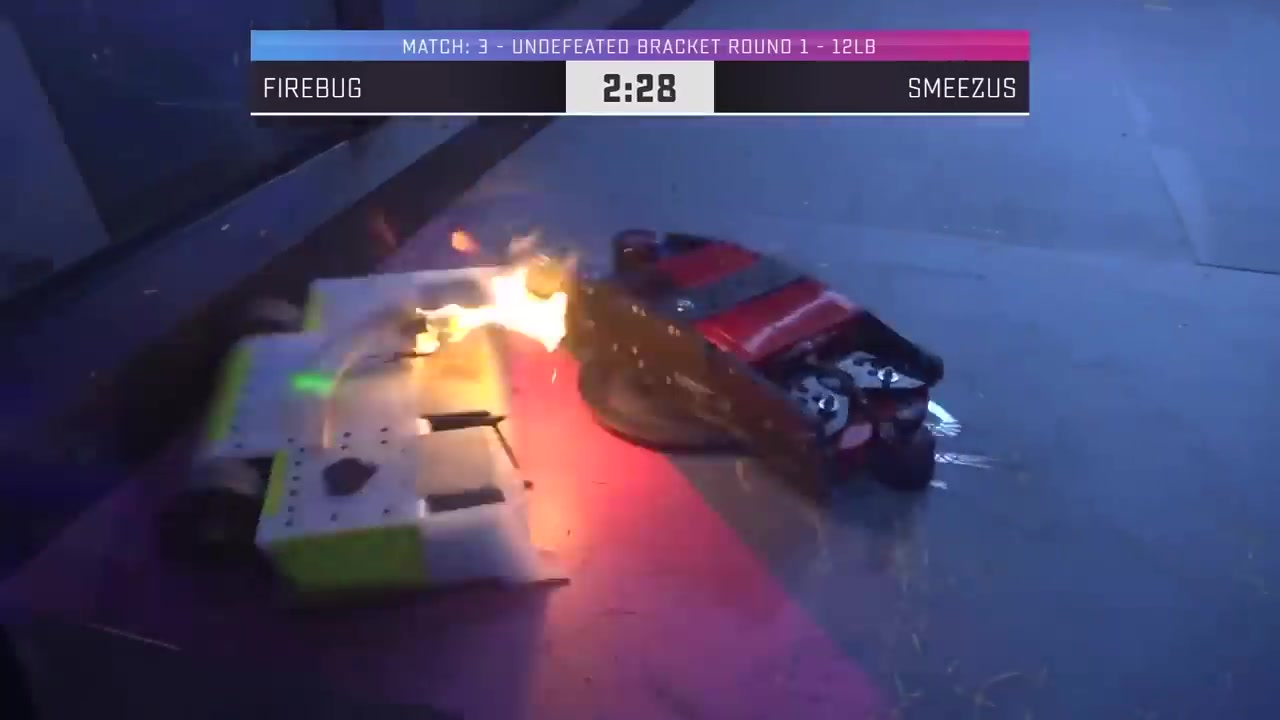combatbot: (196, 262, 572, 598), (598, 230, 951, 490)
